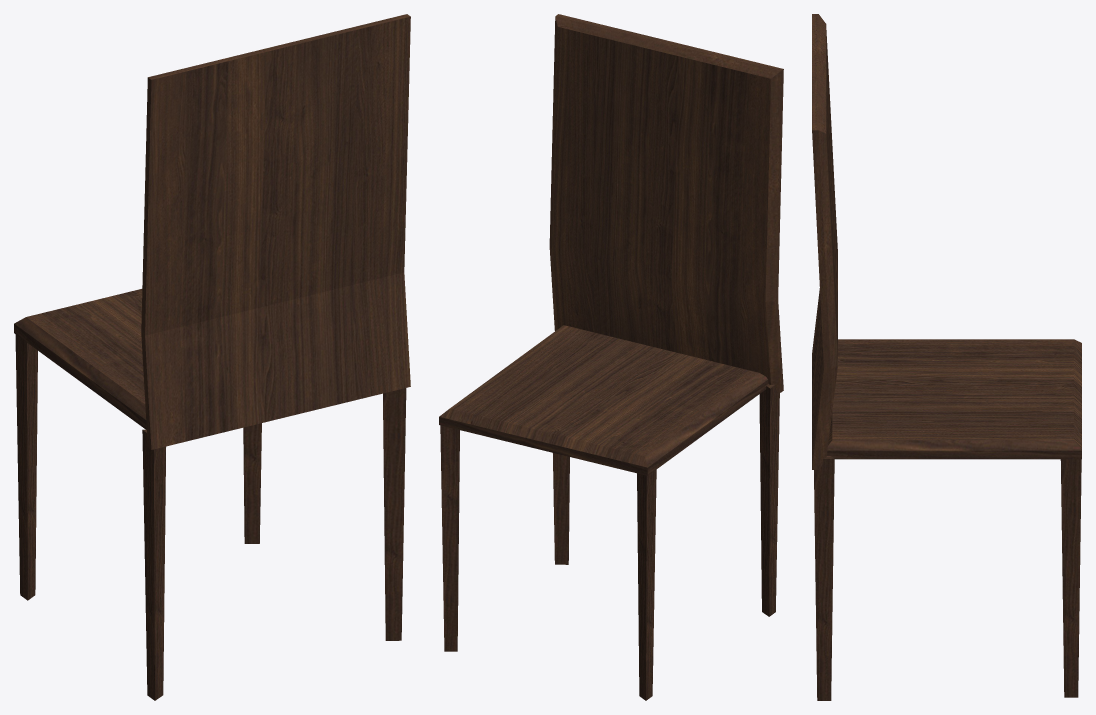
The model's file is FUR0210018.fbx.
3 renders of one model, left to right at view 1: azimuth 30°, elevation 25°; view 2: azimuth 150°, elevation 25°; view 3: azimuth 270°, elevation 25°, orthographic. The views are drawn at different scales.
Visible parts, largest first — view 1: smFUR0210018; view 2: smFUR0210018; view 3: smFUR0210018.
Boxes of the visible parts, x1,y1,x2,y2 form: smFUR0210018: [14, 14, 410, 700]; smFUR0210018: [439, 14, 783, 700]; smFUR0210018: [812, 14, 1081, 700].
Bounding box in the file's own units: 56.73 × 131 × 55.68.
Materials: 1 (1 with a texture image).
